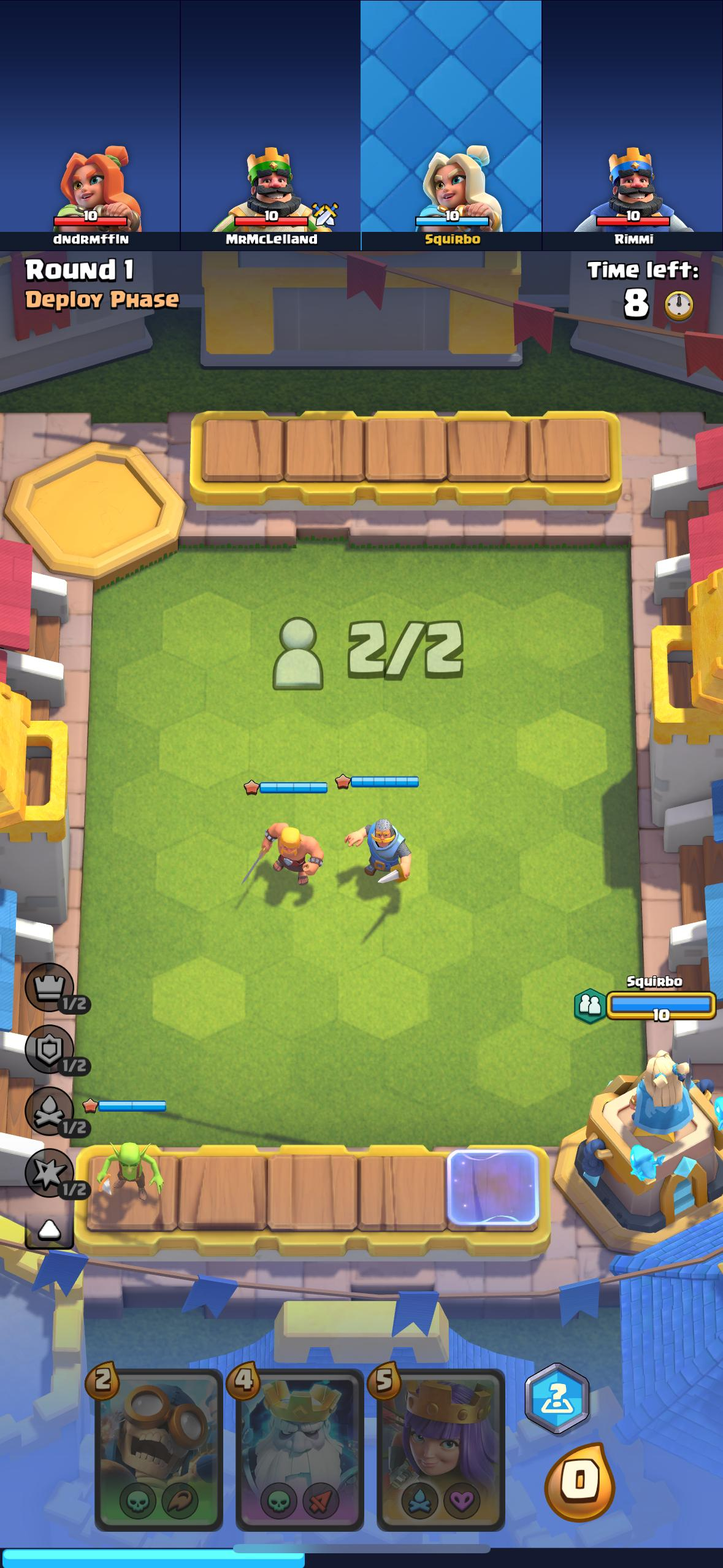barbarian: (251, 815, 322, 881)
goblin: (92, 1134, 170, 1212)
hand-bomber: (97, 1373, 222, 1528)
hand-ghost: (239, 1369, 362, 1524)
hand-queen: (374, 1367, 500, 1524)
knight: (346, 809, 413, 884)
